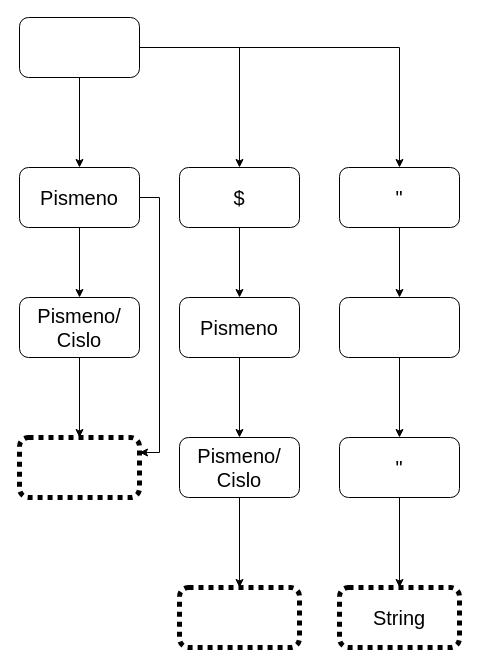
Image size: 479x667. Some labels were removed from this diagram. Each missing label, with the box of its shape:
>31(ascii)/ escape seq: (338, 296, 460, 358)
ID Funkcie: (16, 434, 142, 500)
ID Premennej: (176, 584, 302, 650)
Start: (18, 16, 140, 78)
